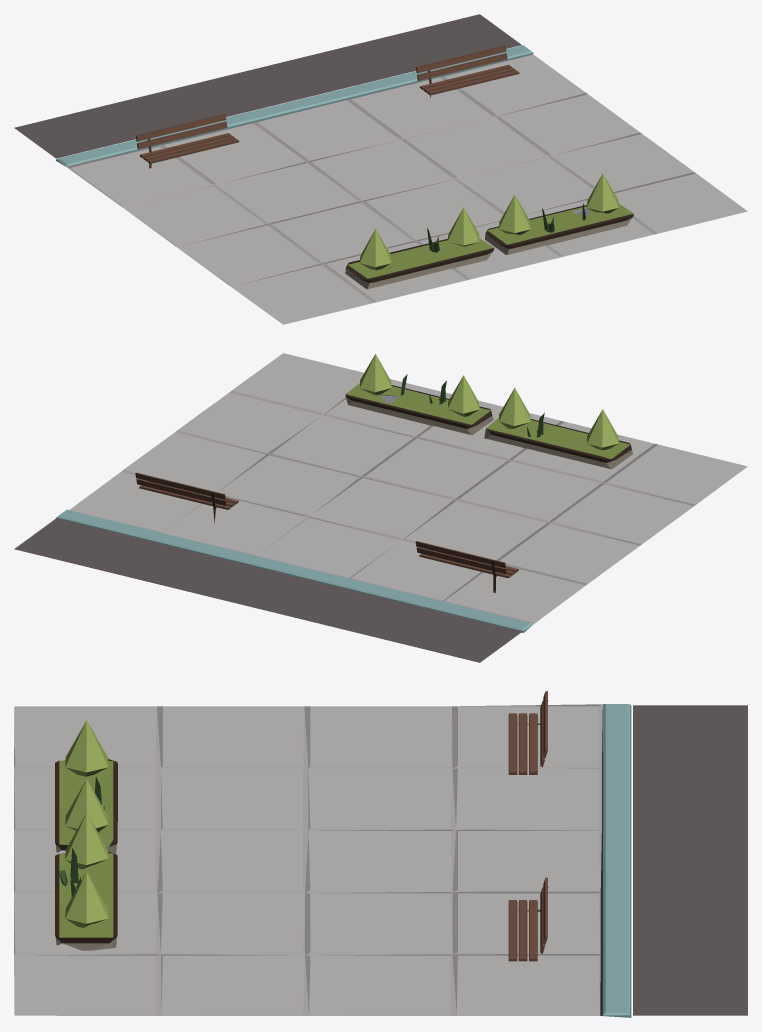
The model's file is QmTo2D2RMR1DH98Vmwnq7bKFuZupT8xZH7NZBnQ898EnM5_lod2.fbx.
The picture shows the model from 3 angles, top to bottom: view 1: azimuth 30°, elevation 25°; view 2: azimuth 150°, elevation 25°; view 3: azimuth 270°, elevation 25°; orthographic projection. The views are drawn at different scales.
Visible parts, largest first — view 1: Entity_512; view 2: Entity_512; view 3: Entity_512.
Part boxes in pixels (x1,y1,x2,y2): Entity_512: (14, 14, 747, 324); Entity_512: (14, 353, 747, 662); Entity_512: (14, 691, 747, 1017).
Bounding box in the file's own units: 16000 × 1591 × 15918.
Materials: 1 (1 with a texture image).
